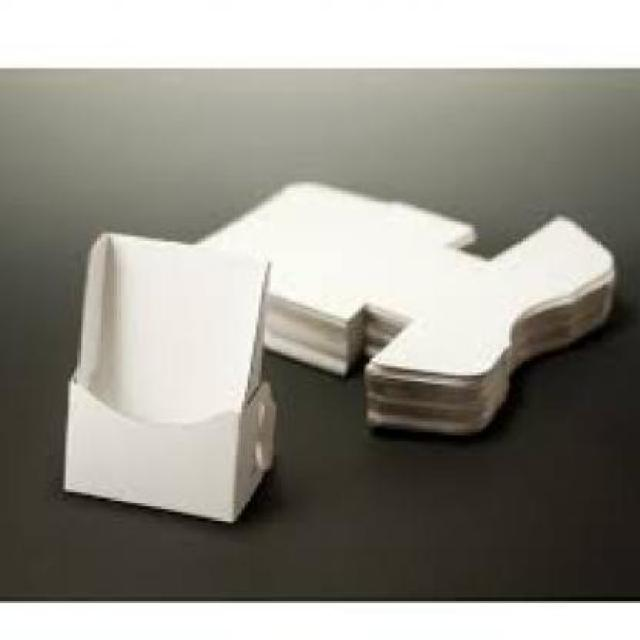CARDBOARD: (193, 176, 612, 427), (56, 230, 273, 521)
